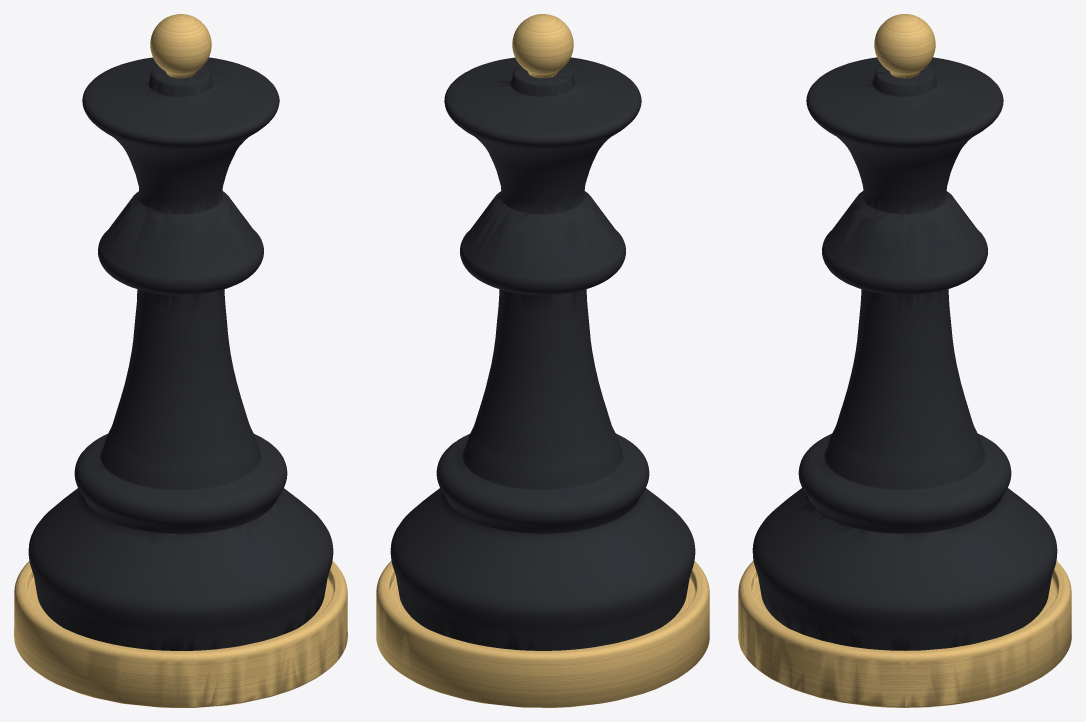
File: queen-black-hd.glb
3 renders of one model, left to right at view 1: azimuth 30°, elevation 25°; view 2: azimuth 150°, elevation 25°; view 3: azimuth 270°, elevation 25°, orthographic.
Visible parts, largest first — view 1: Aurum Noir – Queen; view 2: Aurum Noir – Queen; view 3: Aurum Noir – Queen.
Part boxes in pixels (box(x1,y1,x2,y2)): Aurum Noir – Queen: box(14, 14, 347, 707); Aurum Noir – Queen: box(376, 14, 709, 707); Aurum Noir – Queen: box(738, 14, 1071, 707).
Bounding box in the file's own units: 0.7397 × 1.52 × 0.7397.
Materials: 2 (1 with a texture image).
